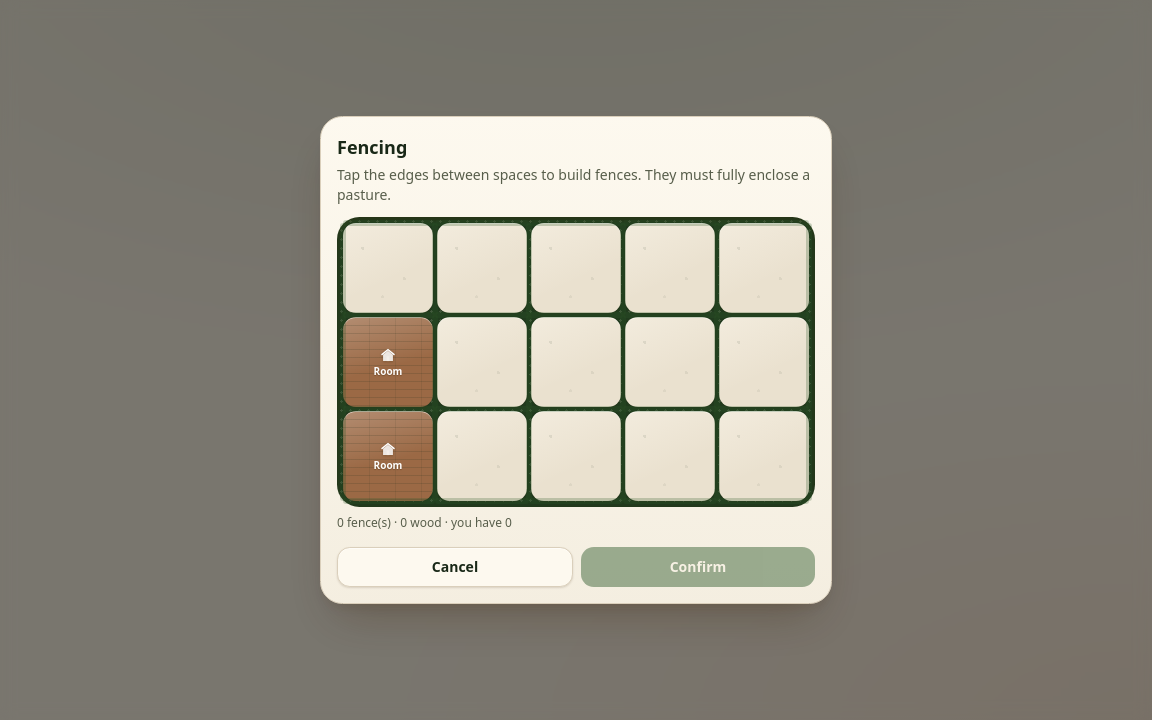
Test: fencing › refuses fences that enclose nothing
The width and height of the screenshot is (1152, 720).
Note: h:0:0 runs along the top of the farmyard, so it borders one space only.
Click the button named "Fence above space 1": (389, 223) [343,220,435,226]
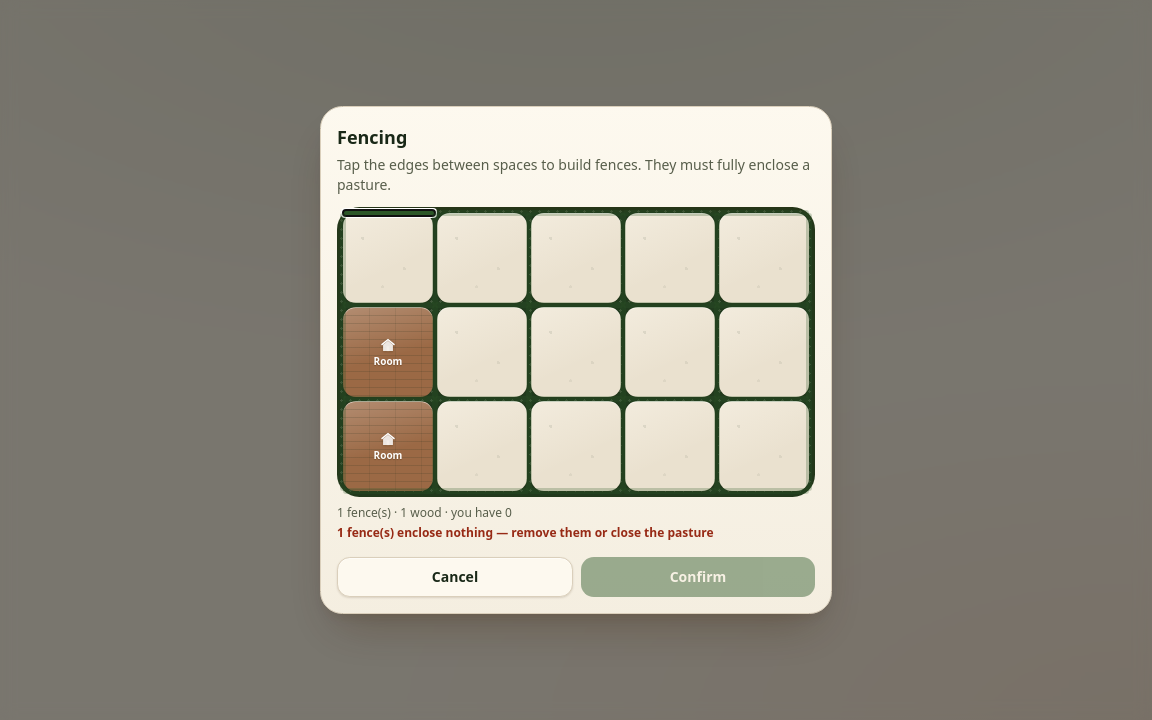
expect the button "Confirm" is disabled: met, box [581,557,815,597]
expect the text "enclose nothing" is shown: met, box [337,524,714,541]
